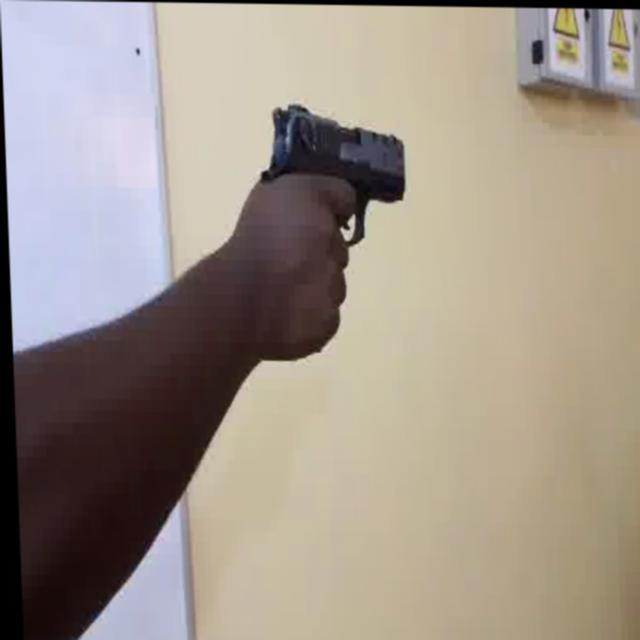weapon: (257, 100, 407, 246)
